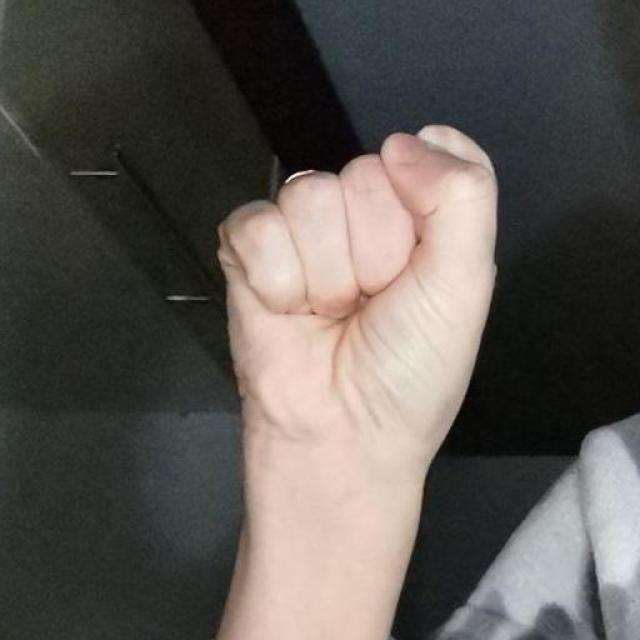hand: (214, 121, 500, 492)
